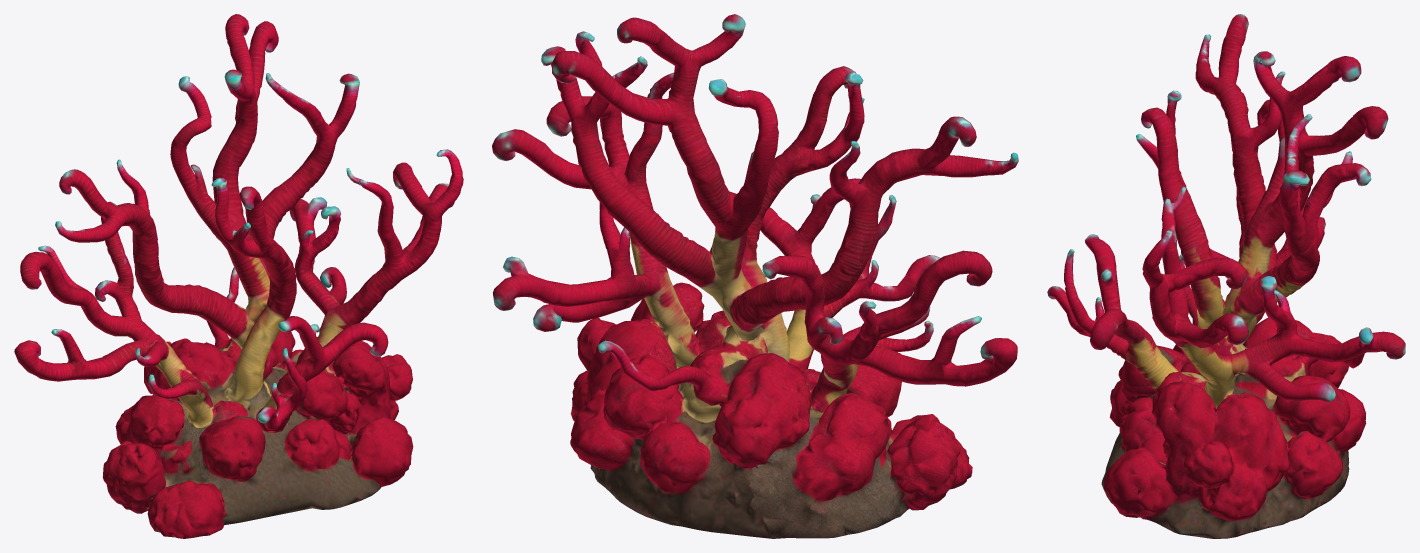
File: plant-coral.glb
3 renders of one model, left to right at view 1: azimuth 30°, elevation 25°; view 2: azimuth 150°, elevation 25°; view 3: azimuth 270°, elevation 25°, orthographic. The views are drawn at different scales.
Bounding box in the file's own units: 1.9 × 1.7 × 1.28.
1 material, 1 textured.
